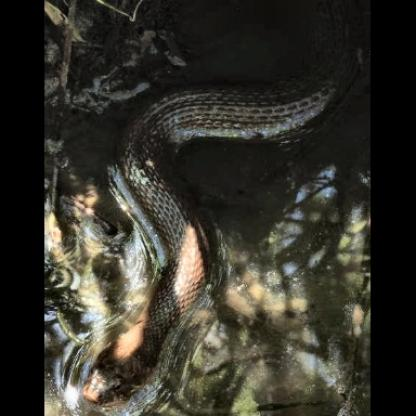Snake: (61, 51, 351, 411)
